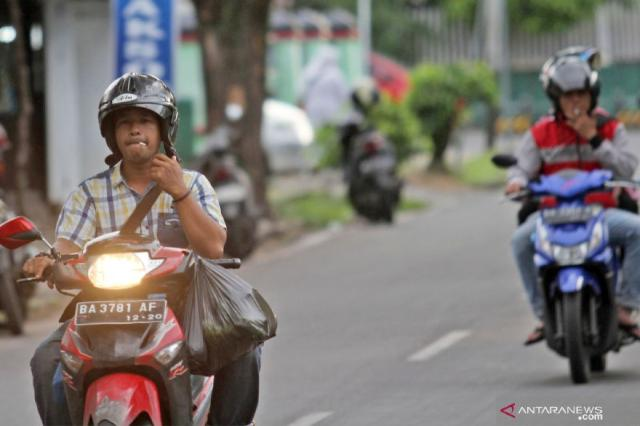helm: (94, 71, 186, 175), (541, 50, 606, 124)
motor: (1, 220, 263, 426), (519, 165, 640, 384)
